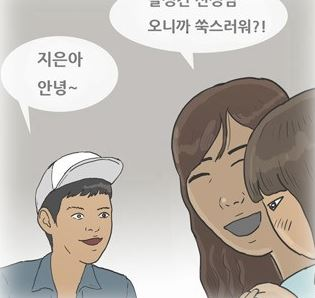hat: (31, 148, 125, 193)
